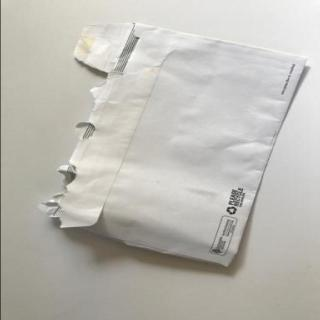Anorganik: (39, 24, 310, 270)
